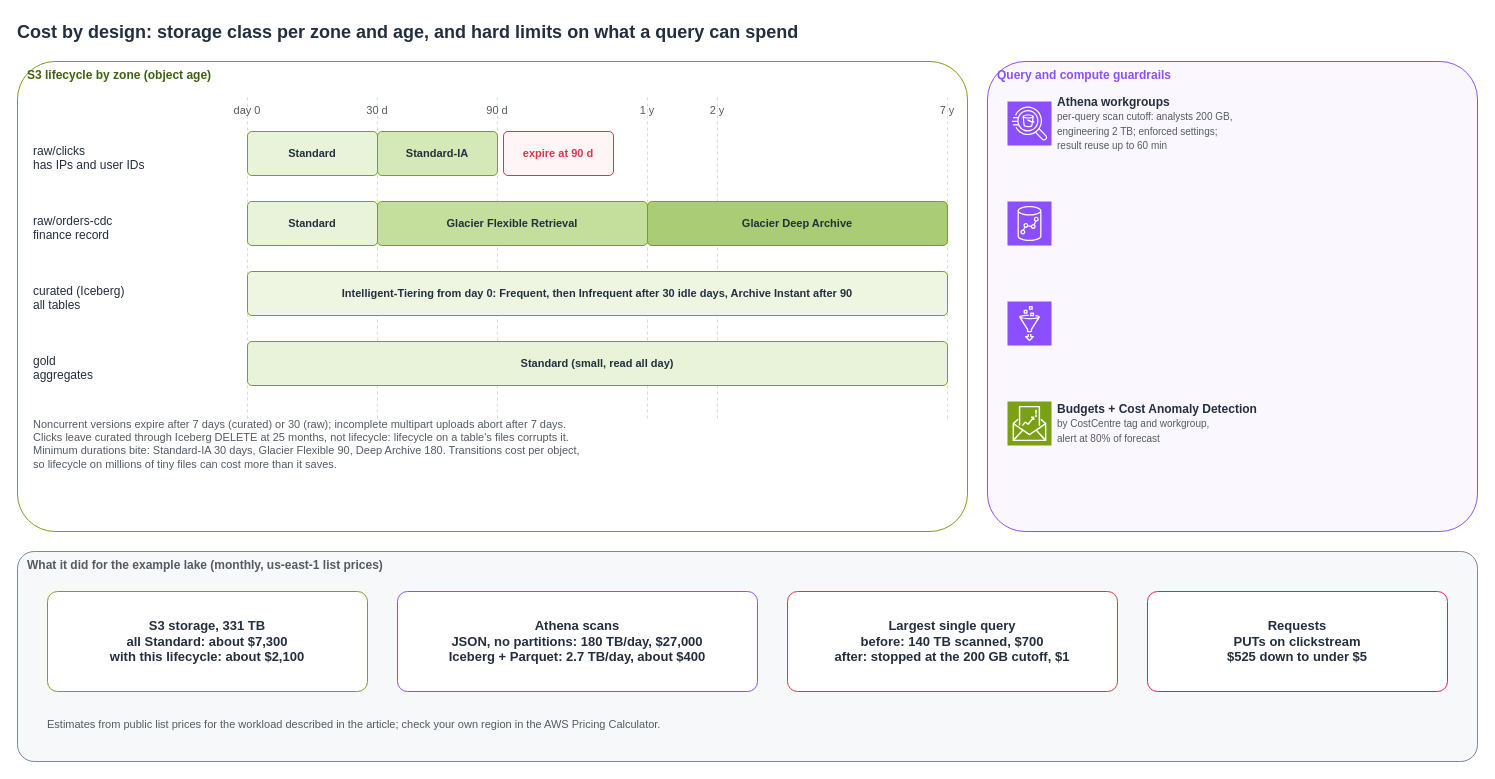
Some shapes in this 1495 by 779 pixel diagram are drawn without their labels. The shapes that lost their labels are listed below. From the top down, each one's centre as x and y in pixels, then its label:
At point 1029,223: "Redshift Serverless base 32 RPU, max RPU cap, usage limit on RPU-hours per day".
At point 1029,323: "Glue Flex execution for jobs that can wait, auto scaling, job timeouts".
